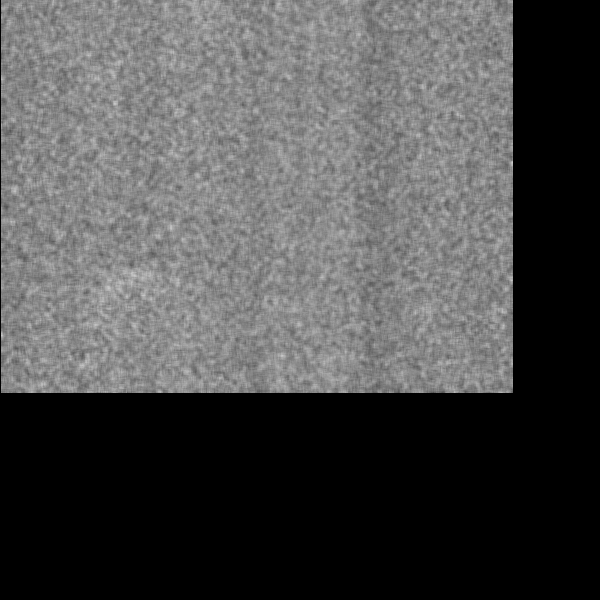spark: (55, 271, 94, 301)
